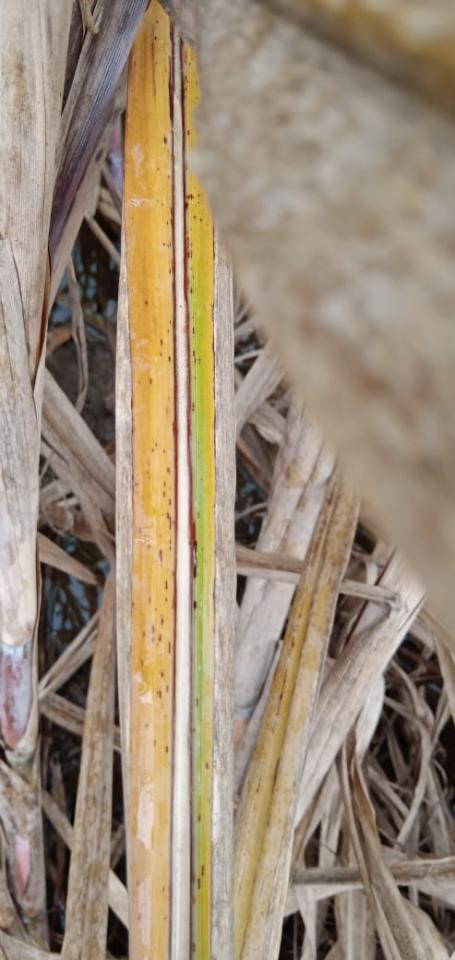RedRot: (169, 23, 196, 959)
Rust: (193, 540, 198, 579), (186, 236, 193, 258), (158, 548, 164, 563), (155, 690, 163, 700), (200, 865, 205, 877), (136, 913, 143, 921), (195, 697, 200, 708), (163, 134, 168, 145), (168, 642, 172, 655), (158, 632, 163, 642), (159, 615, 164, 625), (204, 762, 210, 770), (197, 878, 201, 890), (135, 880, 141, 888), (161, 885, 167, 893), (197, 814, 202, 823), (144, 722, 149, 731), (165, 685, 170, 694), (140, 658, 145, 667), (151, 624, 156, 633), (193, 600, 198, 609), (184, 74, 189, 83), (184, 50, 187, 65), (191, 401, 195, 412), (159, 339, 164, 347), (132, 60, 137, 68), (169, 517, 172, 530), (165, 745, 169, 754), (153, 738, 157, 747), (146, 544, 152, 550), (163, 915, 167, 924), (149, 377, 153, 386), (185, 202, 189, 211), (150, 636, 155, 643), (142, 630, 147, 637), (166, 466, 171, 473), (134, 481, 139, 488), (160, 671, 164, 679), (148, 597, 152, 605), (168, 498, 172, 506), (167, 355, 171, 363), (192, 349, 196, 357), (190, 287, 194, 295), (165, 580, 168, 590), (144, 300, 149, 306), (138, 527, 142, 534), (166, 512, 170, 519), (162, 490, 166, 497), (158, 351, 162, 358), (193, 357, 197, 364), (131, 601, 136, 606), (154, 442, 159, 447), (154, 19, 159, 24), (168, 546, 172, 552), (168, 538, 172, 544), (163, 480, 166, 488), (151, 447, 155, 453), (197, 510, 200, 518), (186, 162, 189, 170), (198, 357, 201, 364), (192, 327, 195, 334), (168, 267, 171, 274), (190, 193, 193, 200), (187, 129, 190, 136), (167, 173, 170, 180), (192, 727, 196, 732), (155, 607, 159, 612), (162, 449, 166, 454), (155, 60, 159, 65), (169, 319, 172, 325), (154, 36, 157, 42), (156, 166, 160, 170), (192, 274, 195, 279), (163, 242, 166, 247), (185, 86, 188, 91), (195, 81, 198, 86), (188, 193, 190, 200), (165, 598, 168, 602), (169, 241, 171, 247), (197, 194, 200, 198), (200, 218, 203, 222), (193, 215, 196, 219), (195, 96, 198, 100), (167, 328, 169, 333), (167, 221, 169, 226), (189, 62, 191, 67), (166, 244, 169, 247), (197, 201, 200, 204), (194, 101, 197, 104)
Yellow: (115, 1, 173, 959), (186, 160, 237, 959), (184, 43, 200, 149)
